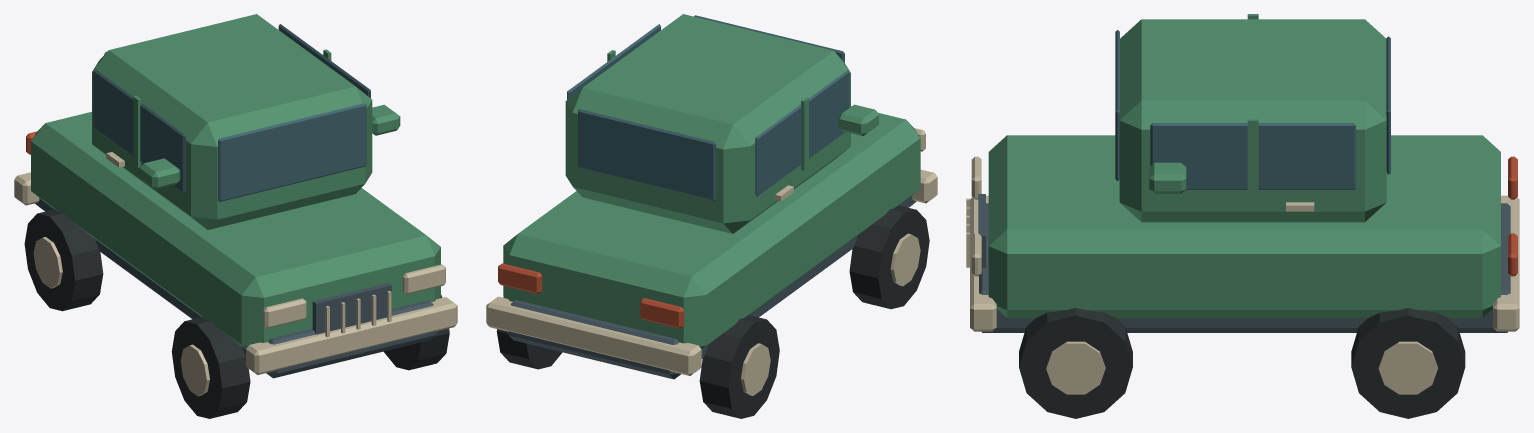
File: vehicle_compact.glb
The picture shows the model from 3 angles, left to right: view 1: azimuth 30°, elevation 25°; view 2: azimuth 150°, elevation 25°; view 3: azimuth 270°, elevation 25°; orthographic projection. The views are drawn at different scales.
Parts seen in each view (by area): view 1: vehicle_compact; view 2: vehicle_compact; view 3: vehicle_compact.
Boxes of the visible parts, x1,y1,x2,y2 form: vehicle_compact: [14, 14, 457, 418]; vehicle_compact: [486, 14, 937, 418]; vehicle_compact: [966, 14, 1519, 418].
Size of the model in its own units: 1.93 by 1.95 by 3.3.
